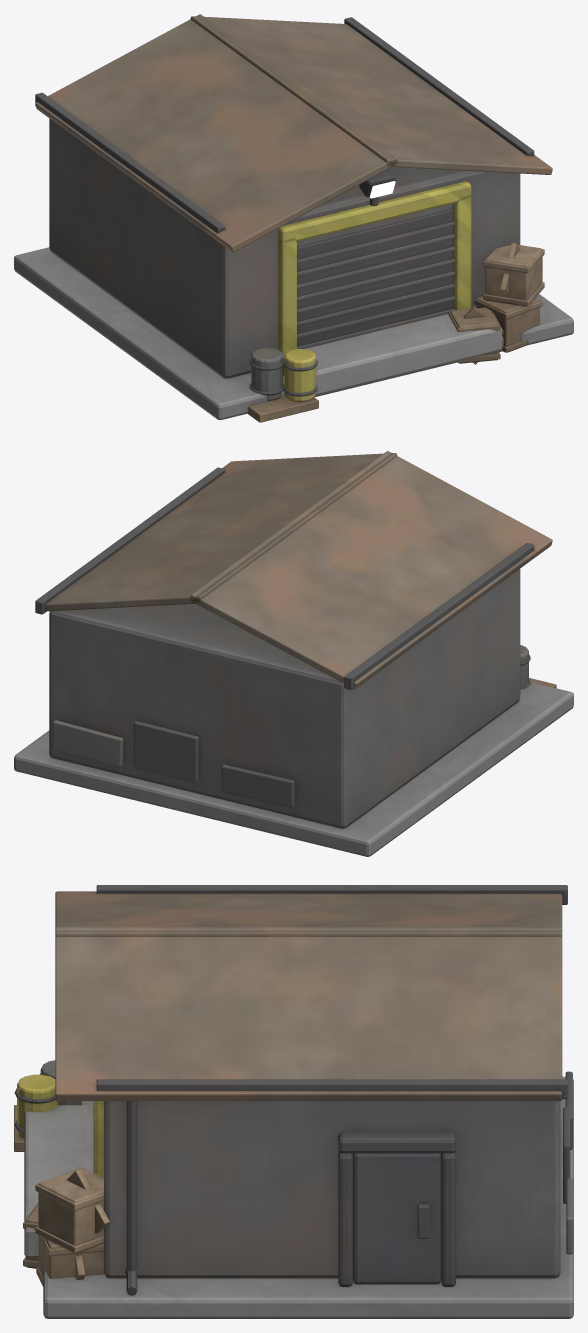
The model's file is home-warehouse.glb.
The picture shows the model from 3 angles, top to bottom: view 1: azimuth 30°, elevation 25°; view 2: azimuth 150°, elevation 25°; view 3: azimuth 270°, elevation 25°; orthographic projection. The views are drawn at different scales.
Parts seen in each view (by area): view 1: wh_warehouse; view 2: wh_warehouse; view 3: wh_warehouse.
Boxes of the visible parts, left/top/right/bottom form: wh_warehouse: left=14, top=14, right=573, bottom=422; wh_warehouse: left=14, top=451, right=573, bottom=856; wh_warehouse: left=14, top=885, right=573, bottom=1318.
Bounding box in the file's own units: 1.8 × 1.09 × 1.9.
Materials: 2 (1 with a texture image).
